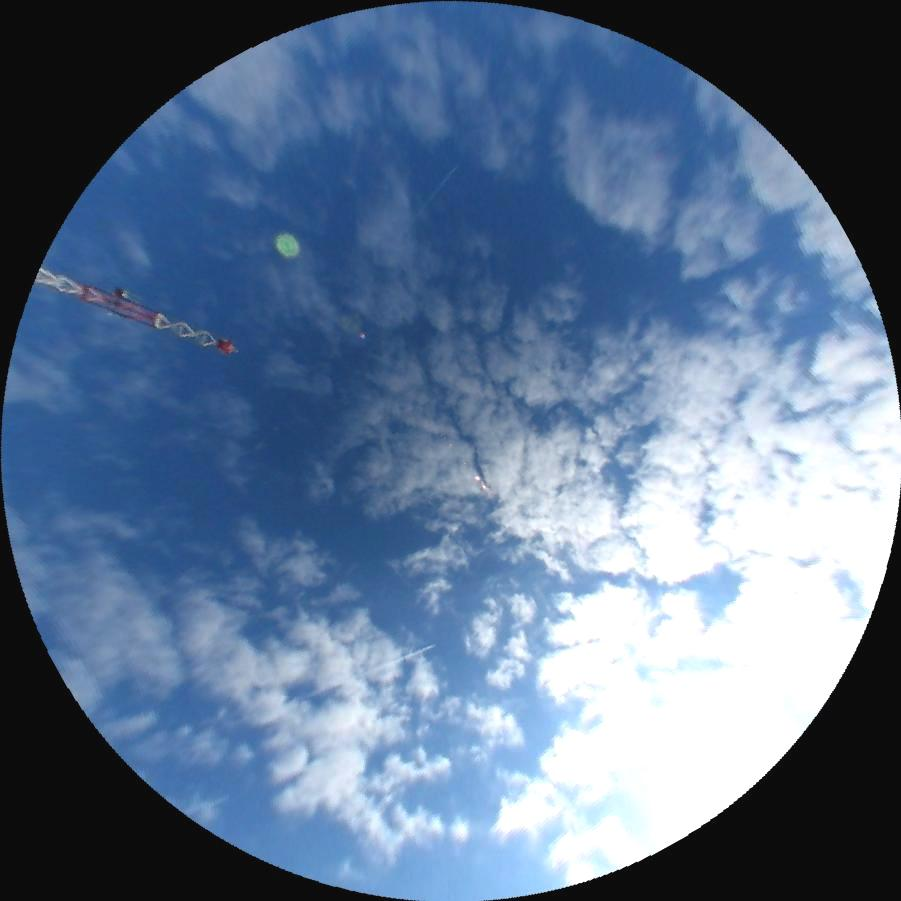contrail young: (293, 642, 437, 702), (411, 164, 458, 218)
